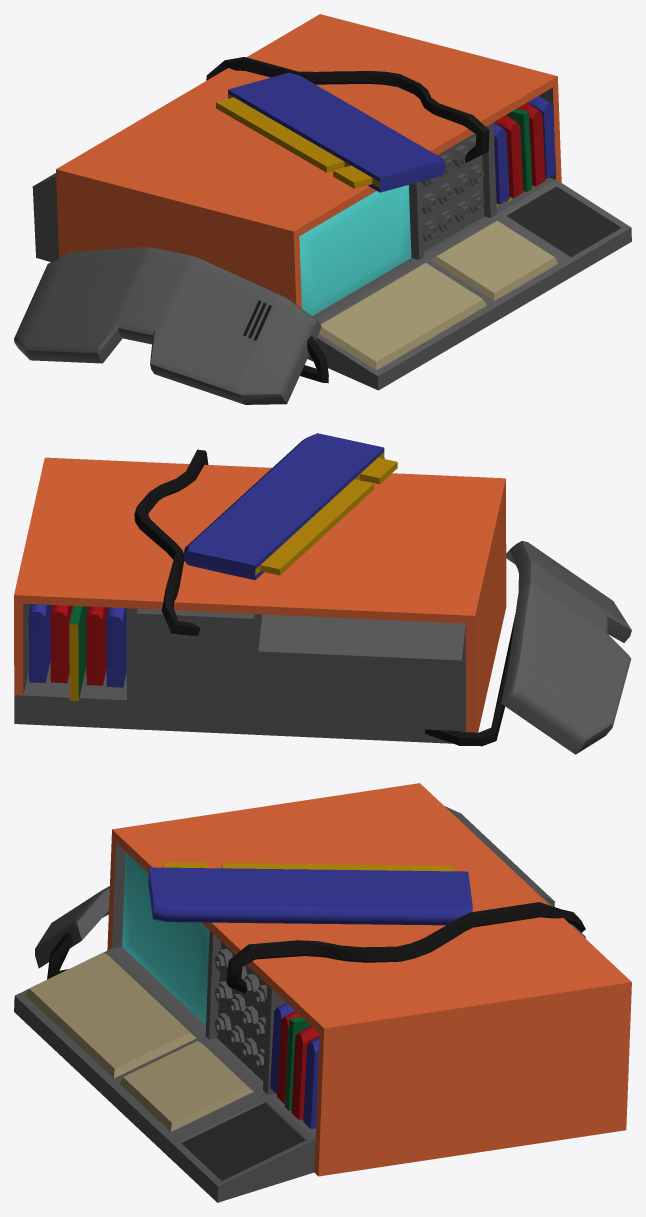
Rendered from HackDeck.fbx.
3 views of the same model, one above another, from view 1: azimuth 30°, elevation 25°; view 2: azimuth 150°, elevation 25°; view 3: azimuth 270°, elevation 25° (orthographic). The views are drawn at different scales.
Parts seen in each view (by area): view 1: HackDeck; view 2: HackDeck; view 3: HackDeck.
Boxes of the visible parts, bbox=[...] form: HackDeck: bbox=[14, 14, 631, 404]; HackDeck: bbox=[14, 433, 631, 754]; HackDeck: bbox=[14, 783, 631, 1202].
Size of the model in its own units: 5.24 by 1.47 by 4.27.
1 material, 1 textured.
